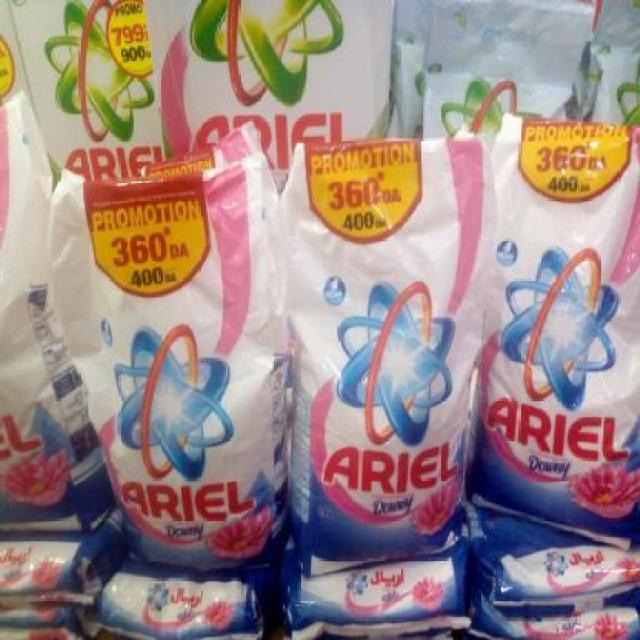Detergent: (284, 137, 471, 551), (95, 167, 283, 564), (472, 103, 640, 534), (0, 101, 95, 541), (192, 0, 391, 148), (22, 0, 165, 177), (487, 531, 640, 639), (0, 503, 128, 619), (293, 561, 461, 639), (101, 566, 268, 640)
